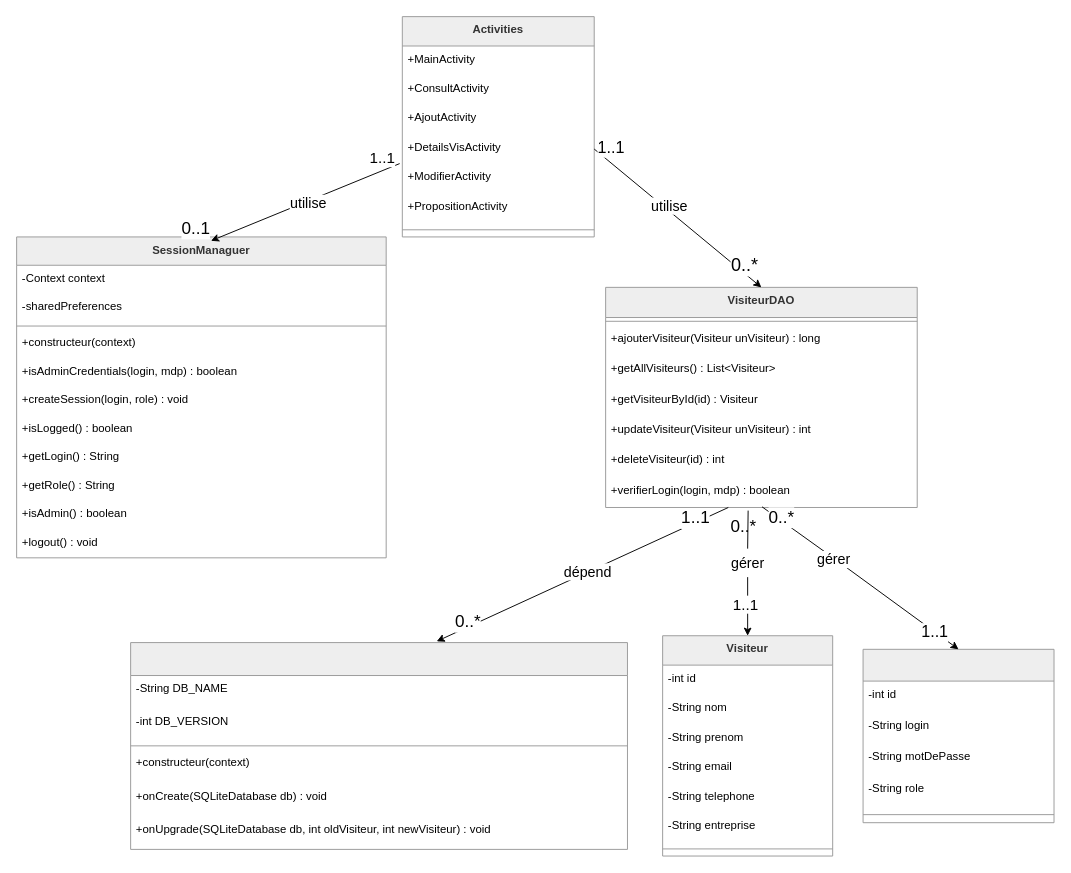
Some shapes in this 1071 by 873 pixel diagram are drawn without their labels. The shapes that lost their labels are listed below. From the top down, each one's box as (x1, y1, x2, y2) in pixels, then its label:
(130, 642, 627, 849): BD_SQLiteOpenHelper
(862, 648, 1054, 823): Utilisateur
